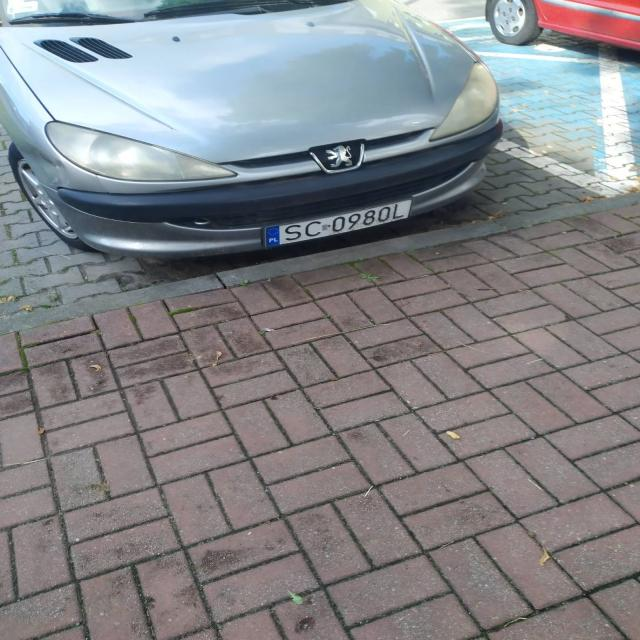pl_license_plate: (266, 198, 411, 246)
